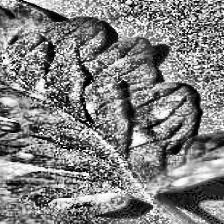leaf mold: (0, 0, 224, 211)
